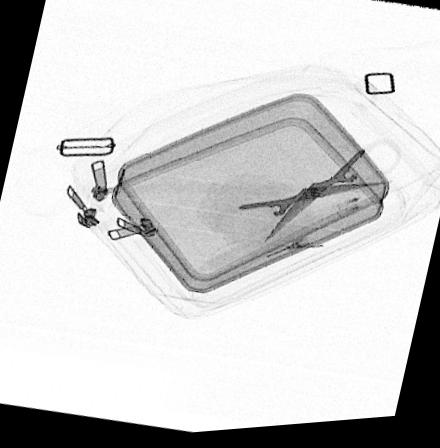Scissors: (213, 145, 404, 249)
